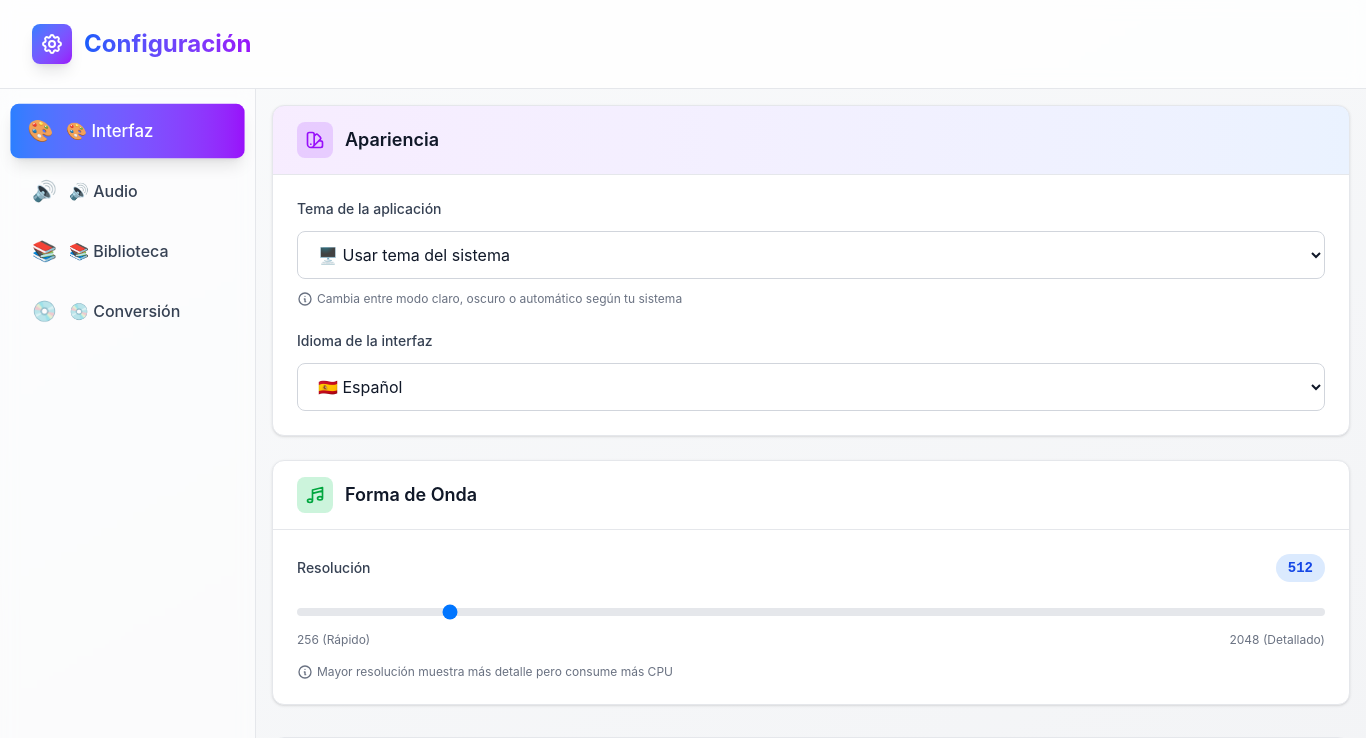
Scenario: Settings › Navegación entre pestañas › debería cambiar a pestaña Conversión al hacer click
Click the text "💿 Conversión": (125, 311) [69, 299, 180, 323]
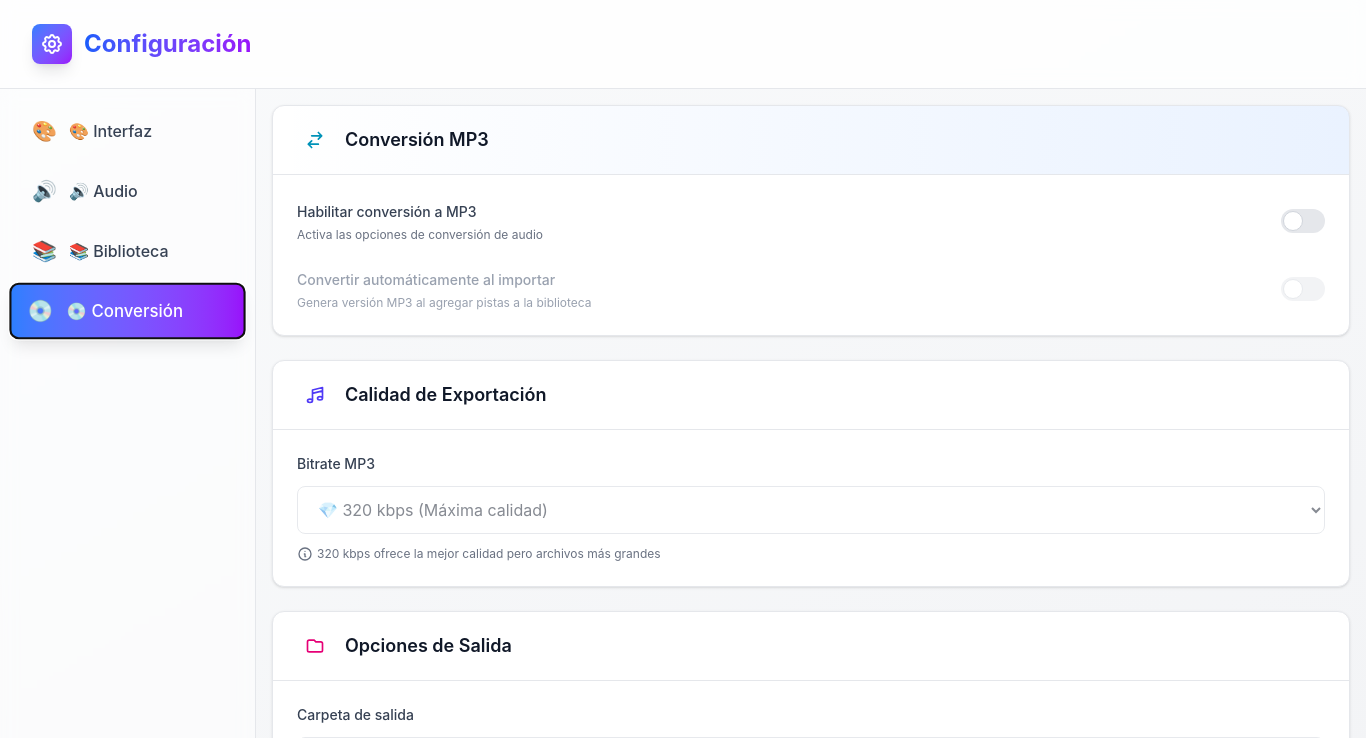
Expected: the heading "Conversión MP3" is shown, [345, 126, 489, 154]
